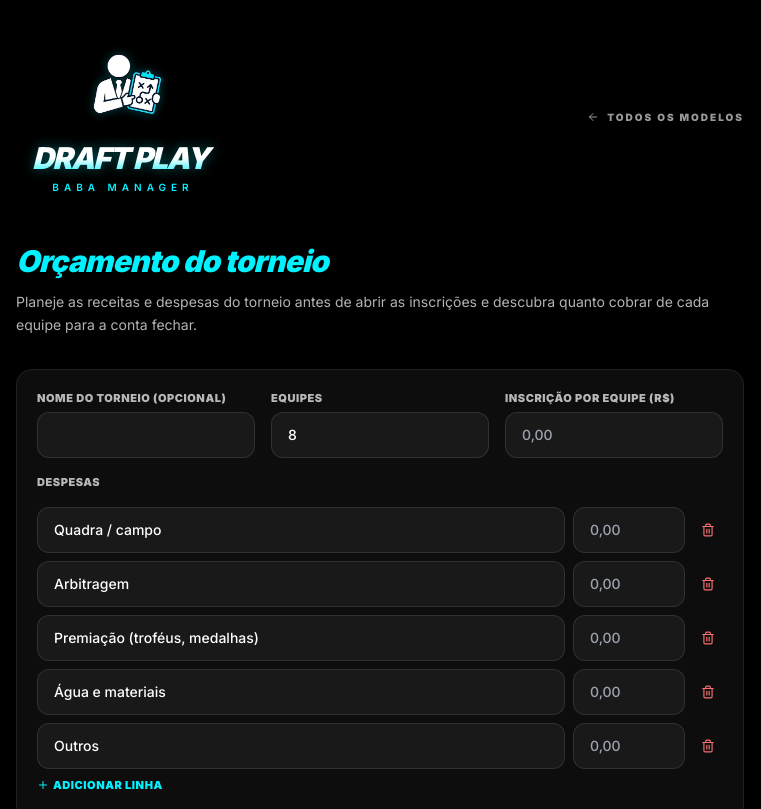
Test: Orçamento do torneio › calcula saldo e inscrição para cobrir
Type "1000" into the field named "Despesas: valor 1 (R$)". click: (629, 530)
box: x1=573 y1=506 x2=685 y2=552
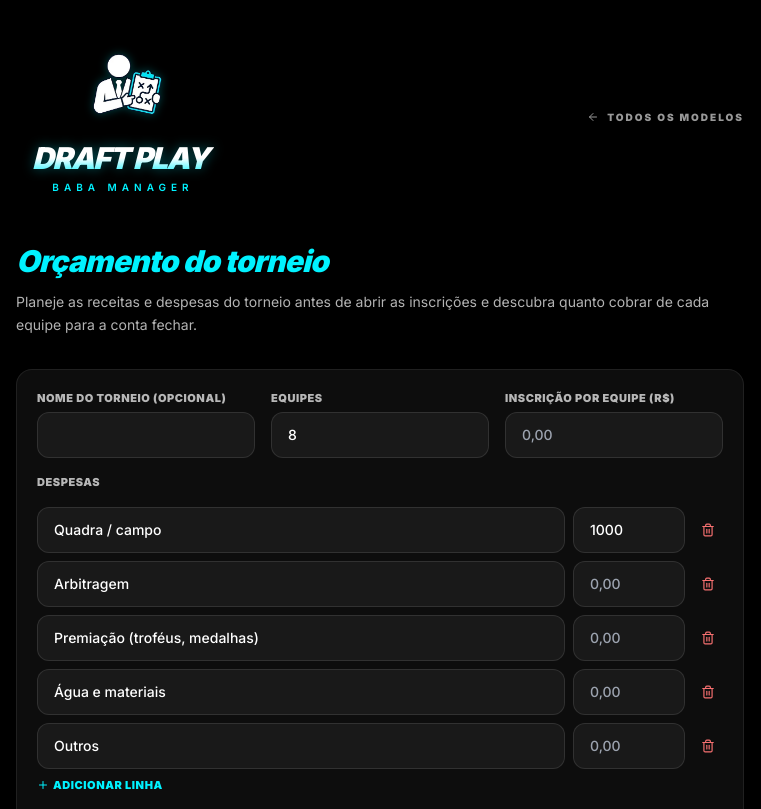
Type "300" into the field named "Despesas: valor 2 (R$)". click: (629, 584)
box: x1=573 y1=560 x2=685 y2=606
(page scrolled)
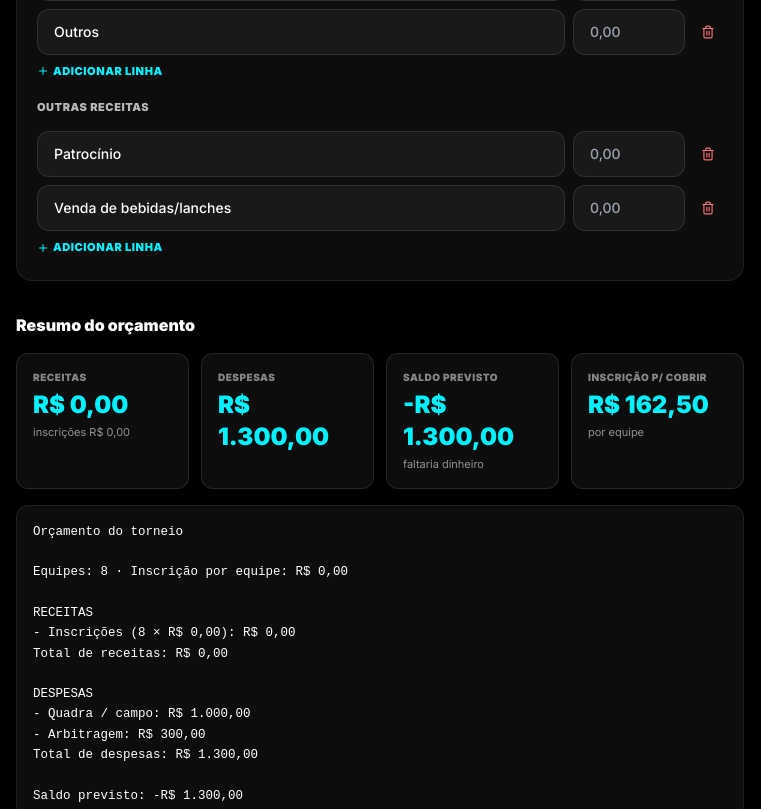
Result: the text "-R$ 1.300,00" is shown at x1=403 y1=390 x2=514 y2=450
Result: the text "R$ 162,50" is shown at x1=588 y1=388 x2=727 y2=420
